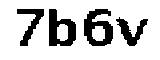6: (81, 4, 116, 50)
7: (9, 5, 46, 49)
b: (47, 6, 78, 48)
v: (115, 14, 150, 50)
